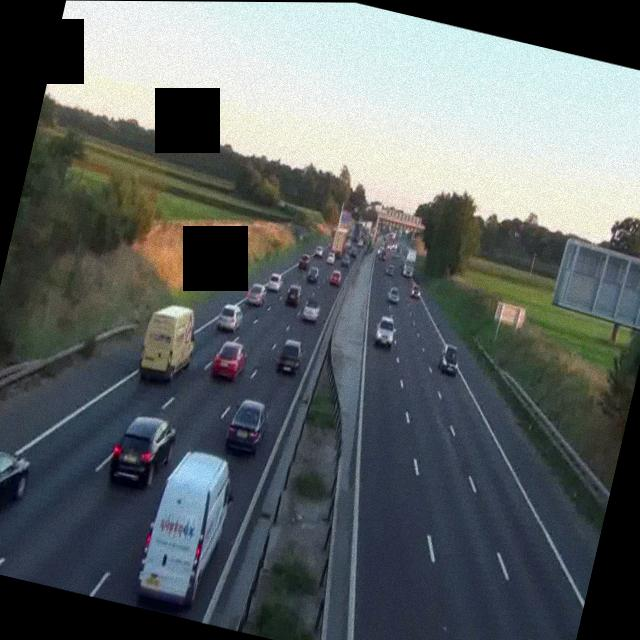car: (133, 444, 240, 614), (106, 409, 179, 492), (0, 442, 32, 553), (224, 394, 272, 457), (208, 336, 248, 382), (276, 337, 304, 375), (216, 301, 244, 333), (437, 342, 463, 376), (372, 313, 397, 347), (245, 281, 268, 306), (300, 297, 322, 322), (284, 283, 303, 308), (266, 272, 284, 293), (385, 284, 401, 304), (327, 268, 342, 287), (408, 282, 422, 299), (307, 264, 320, 282), (297, 253, 310, 270), (339, 251, 352, 267), (316, 244, 328, 260), (384, 263, 395, 276)
truck: (134, 299, 202, 386), (398, 246, 418, 278)
